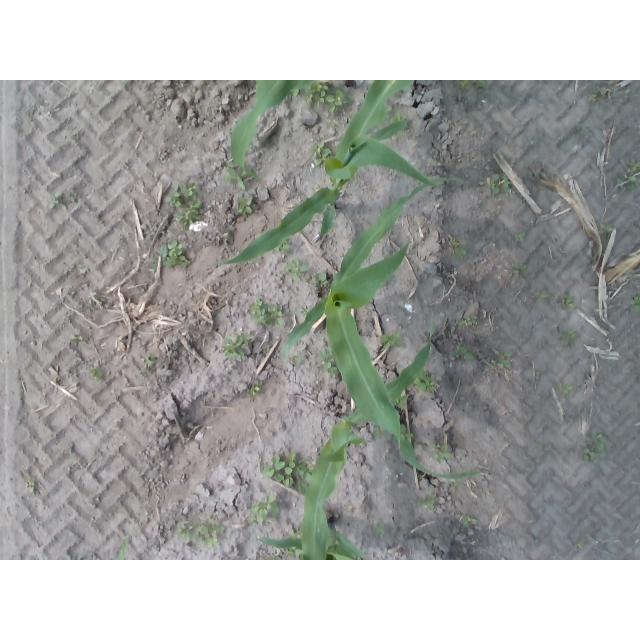Maize: (284, 176, 485, 480), (212, 82, 442, 266), (301, 312, 435, 560), (231, 81, 297, 182), (256, 512, 365, 561)
Weeds: (262, 453, 296, 487), (610, 159, 640, 193), (247, 493, 279, 524), (174, 199, 203, 229), (195, 519, 226, 547), (284, 259, 309, 281), (309, 142, 331, 166), (223, 167, 246, 189), (486, 174, 510, 195), (582, 431, 606, 452), (222, 337, 244, 358), (306, 84, 329, 104), (414, 372, 434, 393), (164, 186, 184, 207), (176, 520, 193, 544), (326, 89, 343, 113), (381, 331, 403, 349), (299, 455, 310, 490), (433, 445, 452, 464), (49, 192, 67, 212), (236, 196, 253, 216), (162, 256, 190, 268), (118, 536, 131, 561), (235, 328, 254, 345), (268, 305, 284, 325), (417, 493, 436, 508), (454, 348, 475, 361), (184, 183, 199, 200), (250, 301, 266, 316), (294, 464, 307, 481), (500, 350, 512, 368), (323, 348, 332, 371), (561, 330, 573, 347), (169, 241, 183, 255), (90, 367, 105, 380), (401, 424, 413, 440), (89, 292, 103, 305), (311, 274, 326, 286), (142, 356, 156, 368), (27, 477, 38, 492), (255, 315, 270, 325), (327, 367, 337, 382), (534, 291, 546, 303), (584, 448, 596, 460), (563, 294, 574, 306), (510, 265, 520, 278), (560, 383, 573, 393), (475, 81, 489, 90), (293, 355, 304, 366), (454, 247, 466, 257), (225, 230, 235, 242), (631, 296, 640, 309), (600, 224, 613, 233), (160, 243, 168, 257), (70, 336, 82, 345), (297, 306, 309, 315), (464, 516, 476, 525), (398, 395, 407, 407), (458, 318, 471, 326), (375, 524, 385, 534), (570, 330, 579, 341), (67, 194, 75, 206), (151, 257, 157, 272), (390, 114, 404, 120), (251, 385, 258, 397), (281, 242, 291, 250), (459, 81, 470, 88), (373, 426, 379, 438), (451, 241, 460, 248), (432, 445, 441, 452), (516, 265, 527, 270), (257, 382, 263, 391), (534, 443, 543, 449), (589, 94, 596, 101), (516, 235, 524, 241), (81, 268, 89, 274), (595, 454, 607, 458), (577, 125, 584, 131), (472, 315, 477, 321), (576, 544, 581, 549)
